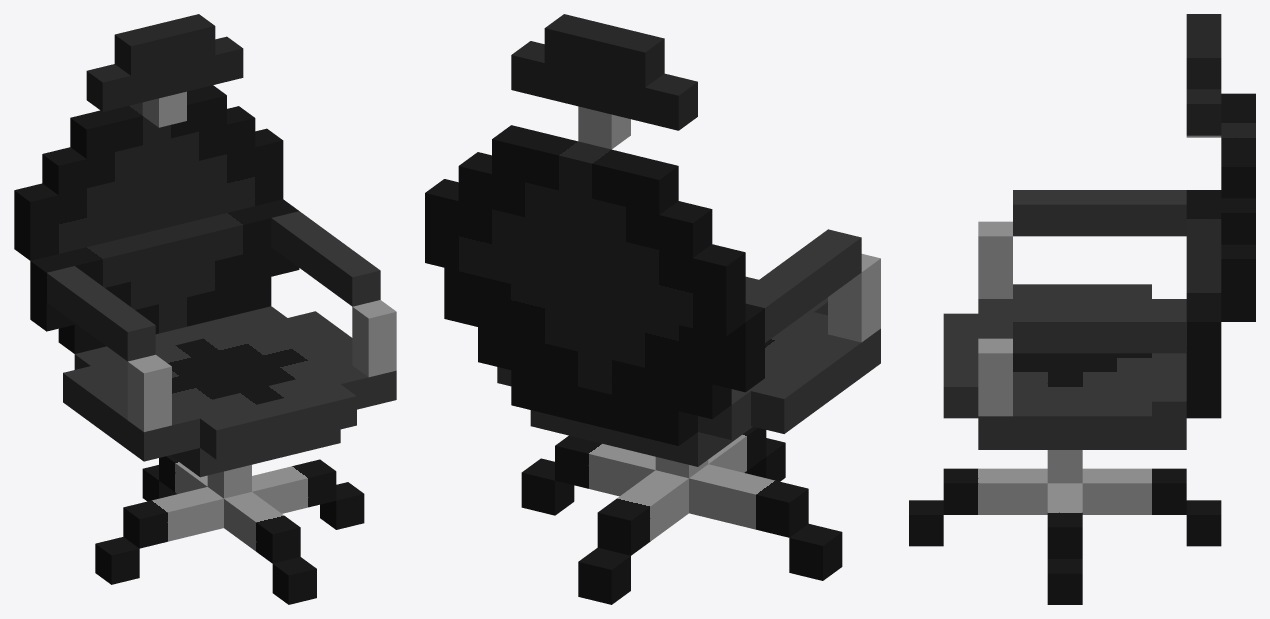
The model's file is OfficeChair.fbx.
3 views of the same model, side by side, from view 1: azimuth 30°, elevation 25°; view 2: azimuth 150°, elevation 25°; view 3: azimuth 270°, elevation 25° (orthographic). The views are drawn at different scales.
Parts seen in each view (by area): view 1: OfficeChair; view 2: OfficeChair; view 3: OfficeChair.
Part boxes in pixels (x1,y1,x2,y2): OfficeChair: (14,14,396,604); OfficeChair: (425,14,880,604); OfficeChair: (909,14,1255,604).
Size of the model in its own units: 9 by 16 by 10.
Materials: 1 (1 with a texture image).
